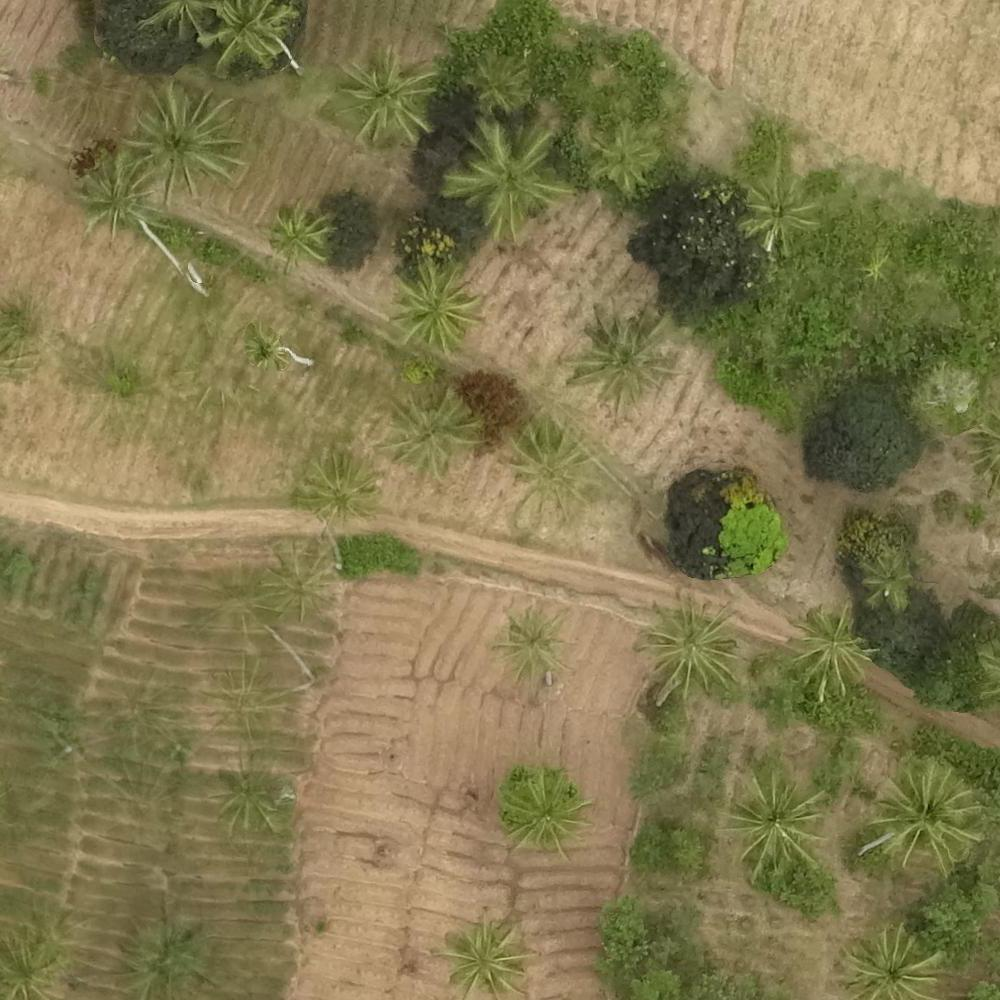Palm: (445, 119, 568, 241), (131, 81, 241, 195), (569, 306, 677, 411), (869, 767, 975, 873), (497, 418, 603, 518), (635, 595, 741, 695), (725, 777, 825, 880), (338, 50, 433, 145), (384, 390, 481, 480), (387, 260, 482, 350), (439, 914, 531, 1000), (500, 768, 590, 854), (70, 151, 160, 235), (841, 925, 941, 1000), (788, 611, 873, 695), (295, 449, 381, 529), (201, 1, 294, 71), (488, 604, 575, 678), (736, 178, 814, 251), (586, 118, 660, 192), (263, 202, 332, 271), (464, 52, 532, 112), (856, 546, 914, 610)
